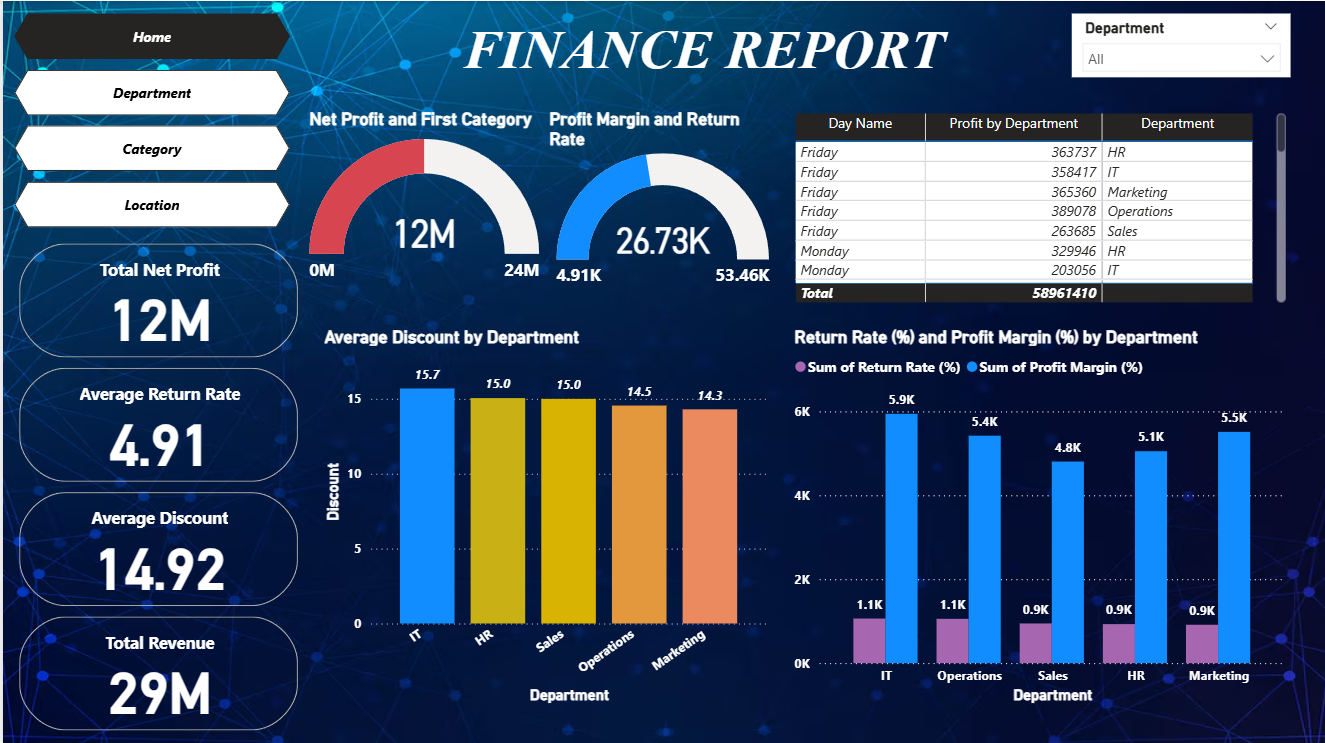

The dashboard page shown, as its layout file describes it:
{"tool":"powerbi","page":{"name":"Home","canvas":[1280,720],"ordinal":0},"visuals":[{"type":"textbox","box":[439.1,12.3,509.1,71.4],"z":0},{"type":"slicer","fields":{"Values":["finance.Department"]},"box":[1031.9,12.3,211.3,61.7],"z":1000},{"type":"gauge","title":" Profit Margin  and  Return Rate ","fields":{"Y":["Sum(finance.Profit Margin (%))"],"MinValue":["Sum(finance.Return Rate (%))"]},"box":[522.8,104.3,229.2,182.5],"z":2000},{"type":"lineClusteredColumnComboChart","fields":{"Y":["finance.Average Discount"],"Category":["finance.Department"]},"box":[304.6,314.2,437.7,369.1],"z":3000},{"type":"clusteredColumnChart","title":"Return Rate (%) and Profit Margin (%) by Department","fields":{"Category":["finance.Department"],"Y":["Sum(finance.Return Rate (%))","Sum(finance.Profit Margin (%))"]},"box":[758.8,314.2,484.4,369.1],"z":4000},{"type":"gauge","title":"Net Profit and First Category","fields":{"Y":["Sum(finance.Net Profit)"]},"box":[290.9,104.3,231.9,182.5],"z":5000},{"type":"tableEx","fields":{"Values":["finance.Day Name","finance.Profit by Department","finance.Department"]},"box":[758.8,104.3,484.4,192.1],"z":6000},{"type":"cardVisual","fields":{"Data":["finance.Total Net Profit","finance.Average Return Rate","finance.Average Discount","finance.Total Revenue"]},"box":[11,229.2,279.9,481.6],"z":7000},{"type":"pageNavigator","box":[10.8,12.1,266.8,206.2],"z":8000}]}

Visuals, with their boxes in screenshot pixels (x1, y1, x2, y2), scaled from the page's 1280x720 canvas onto the 1325x743 screenshot:
textbox: 455:13:982:86
slicer - finance.Department: 1068:13:1287:76
" Profit Margin  and  Return Rate " gauge: 541:108:778:296
lineClusteredColumnComboChart - finance.Average Discount x finance.Department: 315:324:768:705
"Return Rate (%) and Profit Margin (%) by Department" clusteredColumnChart: 785:324:1287:705
"Net Profit and First Category" gauge: 301:108:541:296
tableEx - finance.Day Name x finance.Profit by Department: 785:108:1287:306
cardVisual - finance.Total Net Profit x finance.Average Return Rate: 11:237:301:734
pageNavigator: 11:12:287:225
